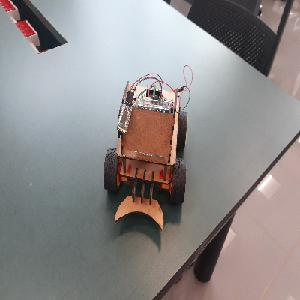Robot: (102, 80, 187, 232)
